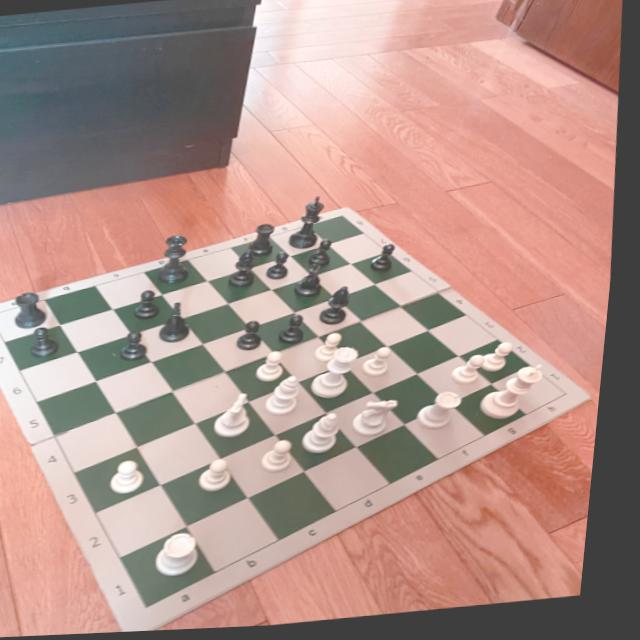Chessboard-Corners: (151, 601, 170, 617), (563, 393, 582, 407), (336, 214, 352, 225), (0, 309, 6, 323)
